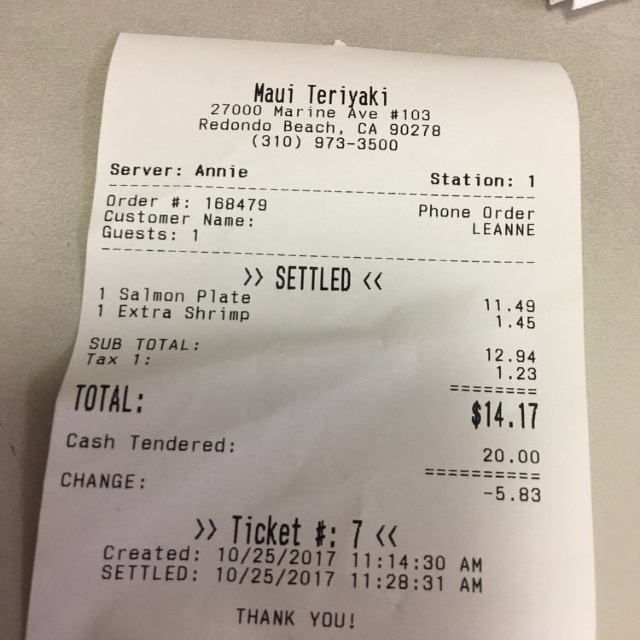invoice_table: (95, 285, 539, 330)
invoice_title: (198, 81, 443, 150)
invoice_total: (71, 380, 538, 429)
